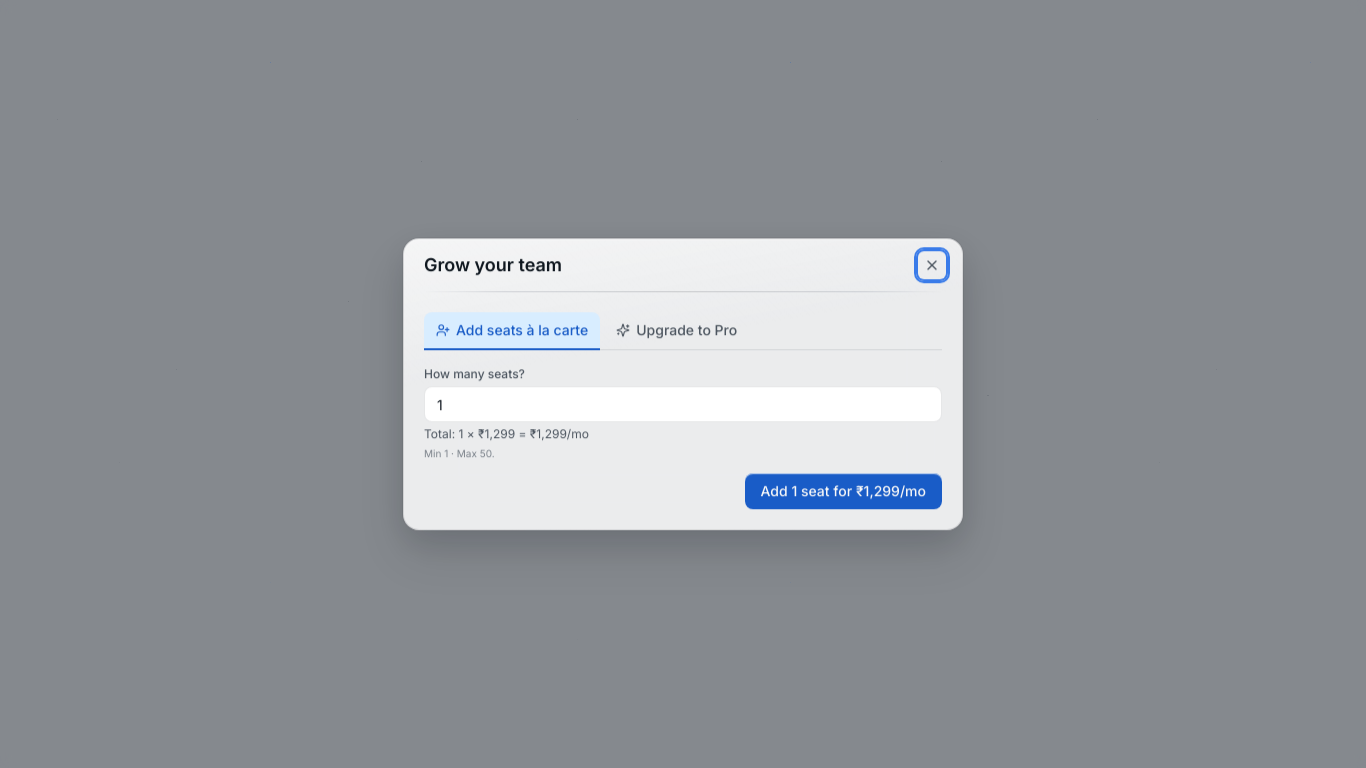
Scenario: BuySeatsModal › surfaces inline submit error when buySeats rejects (e.g. seats_release_would_displace)
Expected: the number field with test id "buy-seats-count" is shown, [424,386,942,422]
Step 1. Click the button with test id "buy-seats-submit" → (843, 491), box [744,473,942,509]
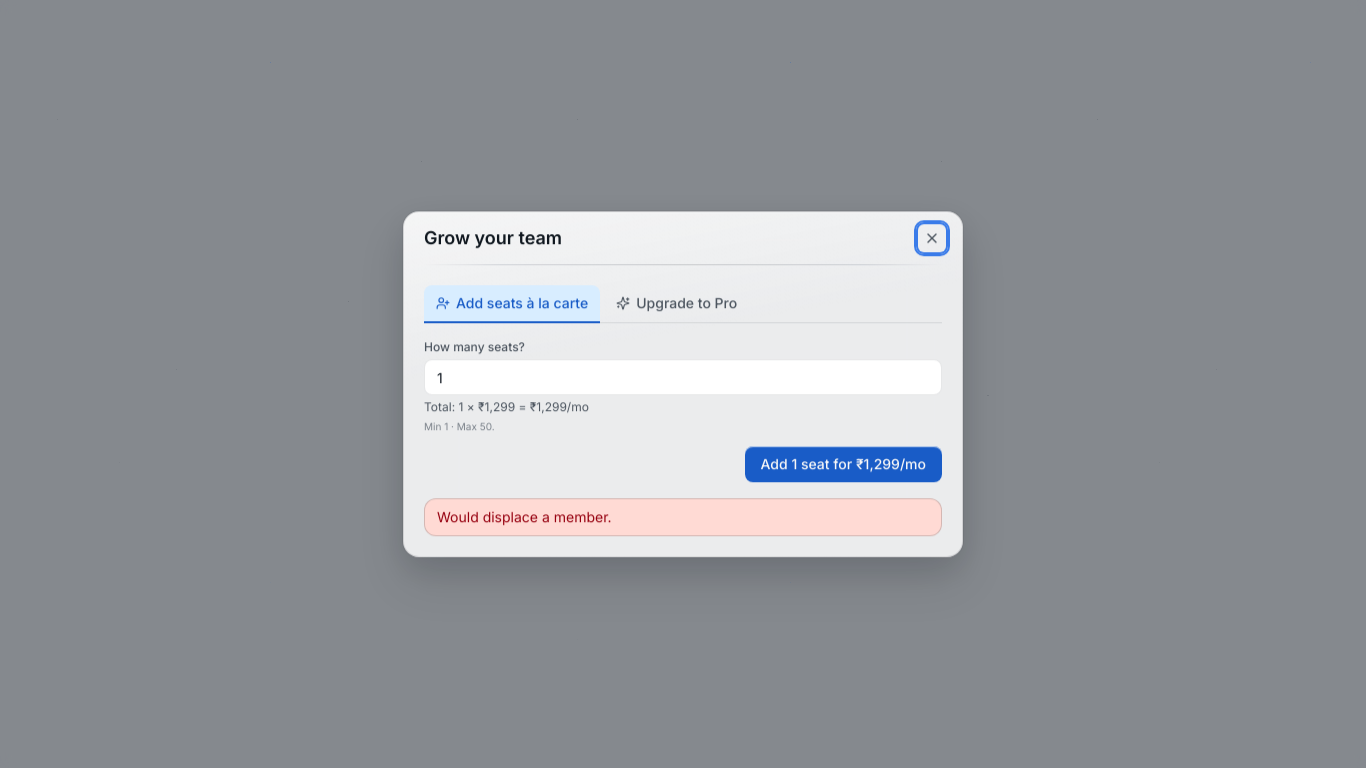
Result: the message with test id "buy-seats-error" shows "Would displace a member" at [437,508,612,525]
